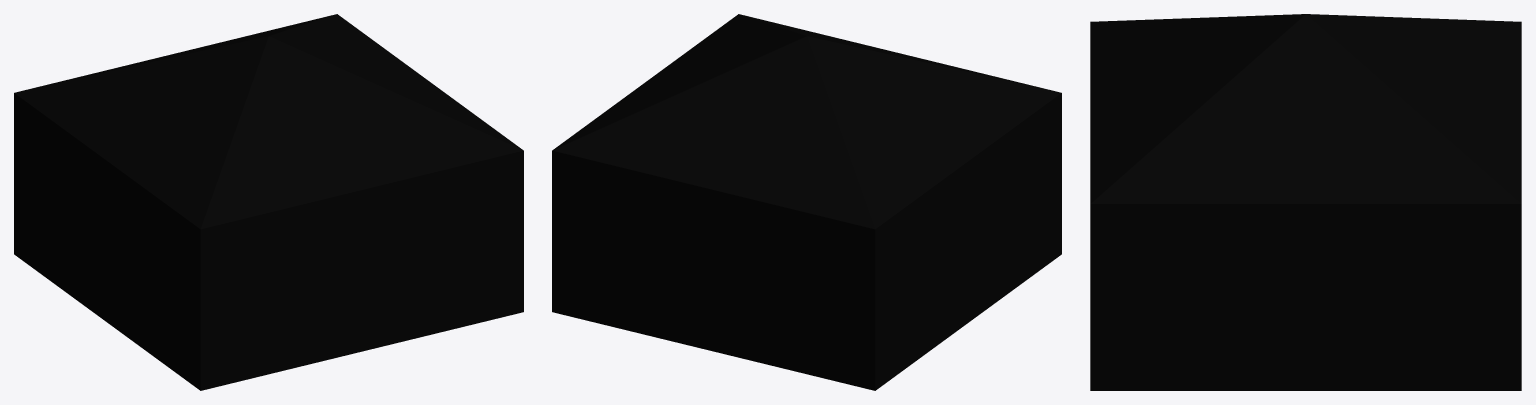
The model's file is house01.glb.
3 views of the same model, side by side, from view 1: azimuth 30°, elevation 25°; view 2: azimuth 150°, elevation 25°; view 3: azimuth 270°, elevation 25° (orthographic). The views are drawn at different scales.
Visible parts, largest first — view 1: node_id4; view 2: node_id4; view 3: node_id4.
Boxes of the visible parts, x1,y1,x2,y2 form: node_id4: (14,14,523,390); node_id4: (552,14,1061,390); node_id4: (1090,14,1521,390).
Bounding box in the file's own units: 0.512 × 0.3742 × 0.512.
Materials: 1 (1 with a texture image).
